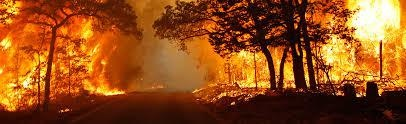fire: (191, 0, 406, 100), (0, 3, 126, 112)
